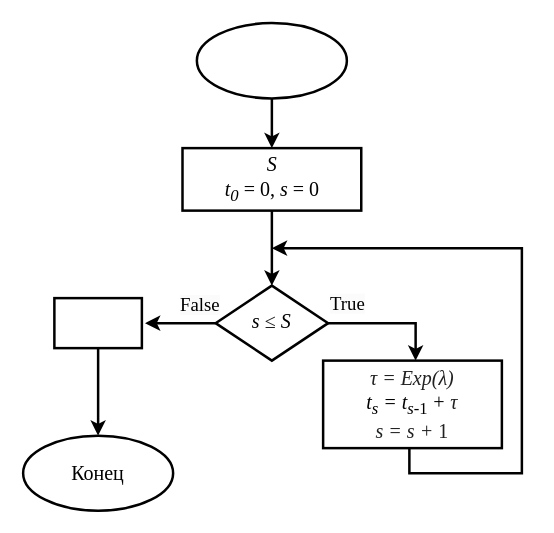
Some shapes in this 554 by 533 pixel diagram are drawn without their labels. Each missing label, with the centre of its shape:
t 1 ,t 2 ,...,t S: the point at 97,322
Начало: the point at 271,60
